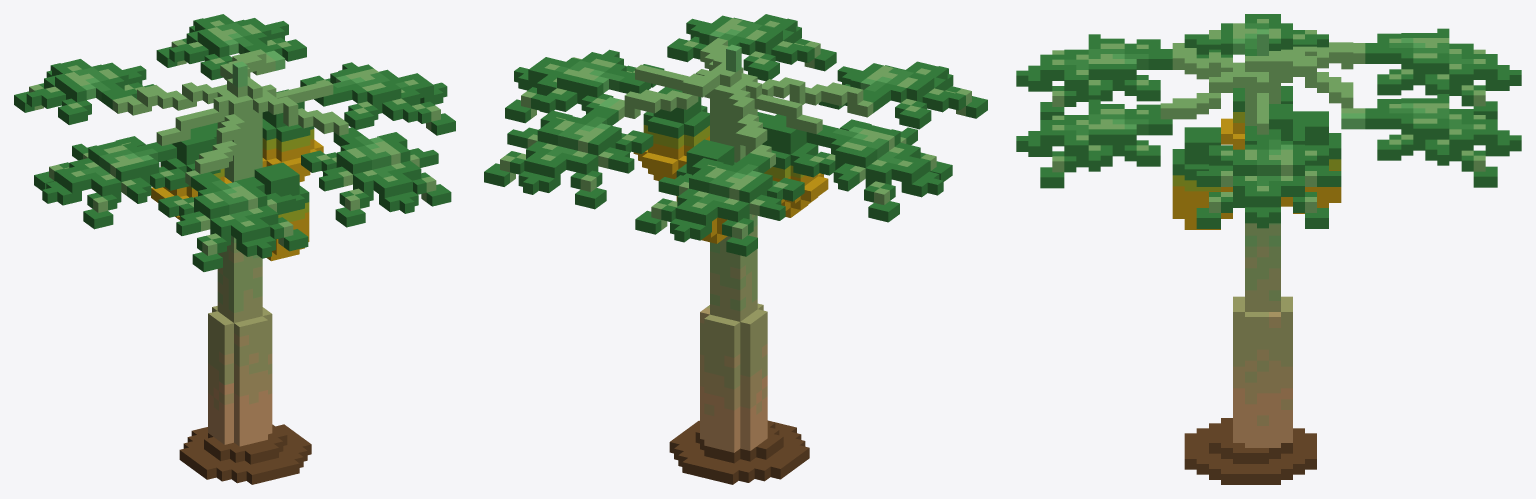
File: Arbórea Exótica - Mamão jovem.obj
3 renders of one model, left to right at view 1: azimuth 30°, elevation 25°; view 2: azimuth 150°, elevation 25°; view 3: azimuth 270°, elevation 25°, orthographic. The views are drawn at different scales.
Bounding box in the file's own units: 4.2 × 3.9 × 4.2.
Materials: 1 (1 with a texture image).
